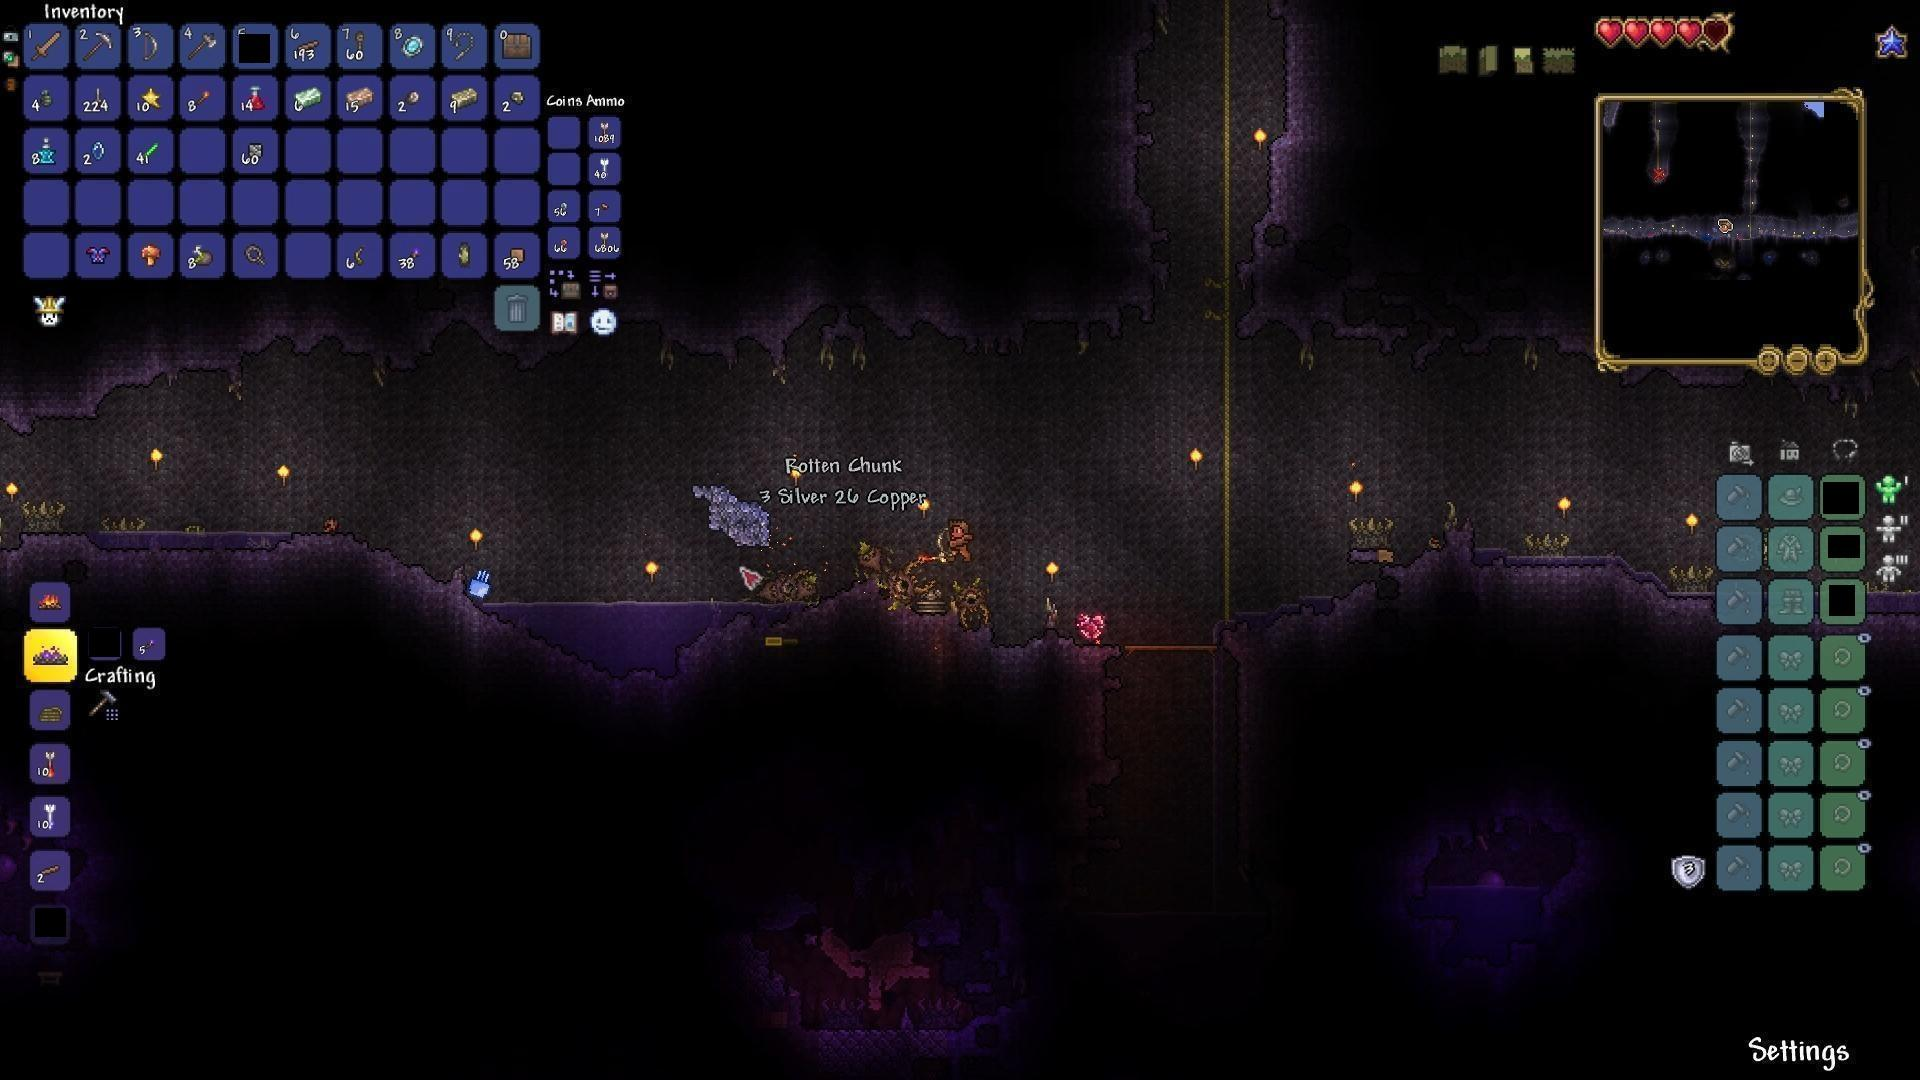breastplate: (82, 241, 113, 268)
